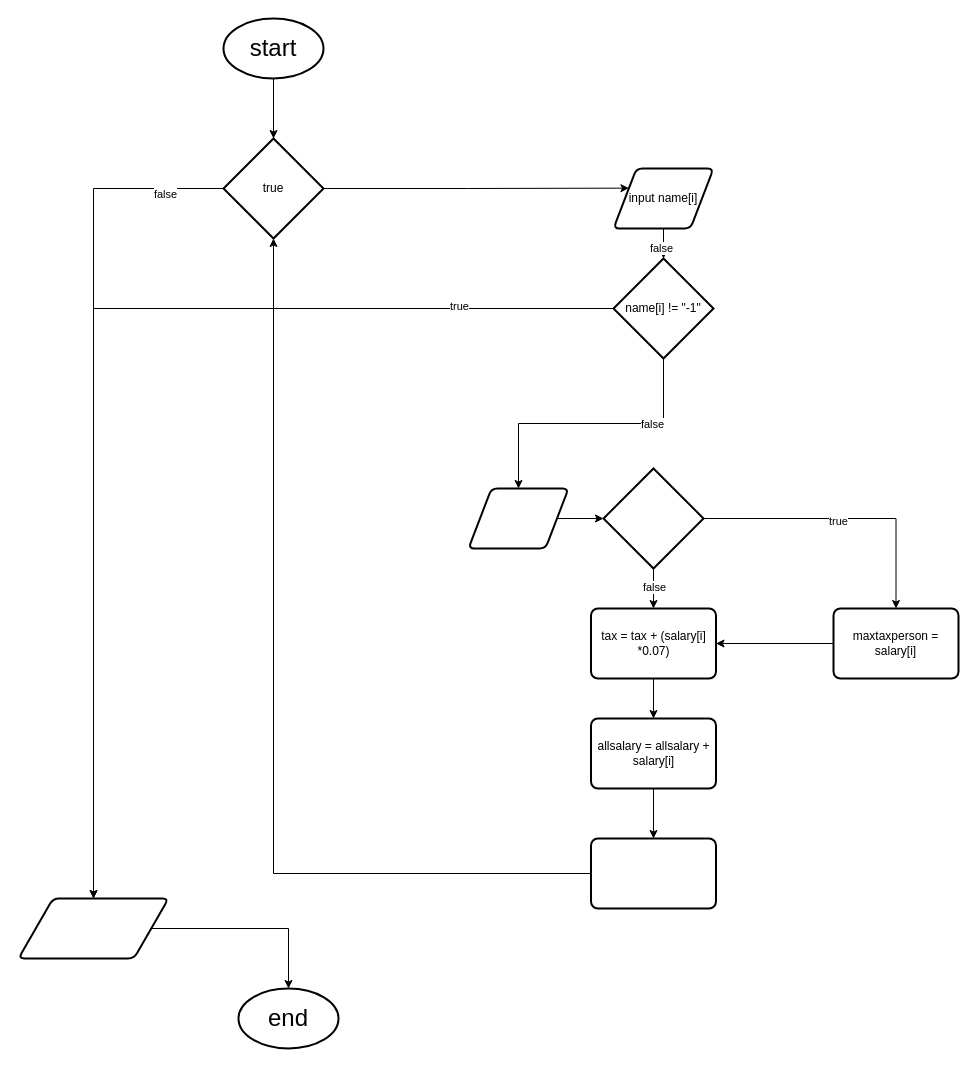
Image size: 976x1066. Some labels were removed from this diagram. The shapes that lost their labels are listed below. From the top down, each one's centre as x and y in pixels, then its label:
(x=518, y=518): input salary[i]
(x=653, y=518): salary[i] > maxtaxperson
(x=653, y=873): i+=1
(x=93, y=928): Display "** RESULT **" name1 (age1) name2 (age2)
